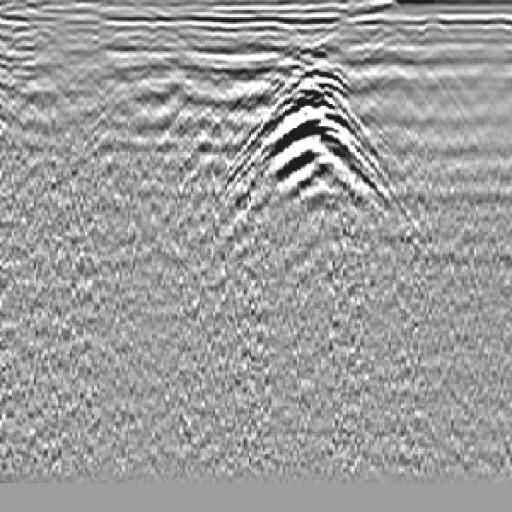metalic: (224, 41, 411, 247)
